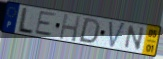D: (78, 17, 102, 45)
E: (34, 11, 58, 38)
H: (57, 13, 82, 44)
L: (15, 7, 35, 36)
N: (123, 24, 147, 52)
V: (108, 20, 127, 50)
